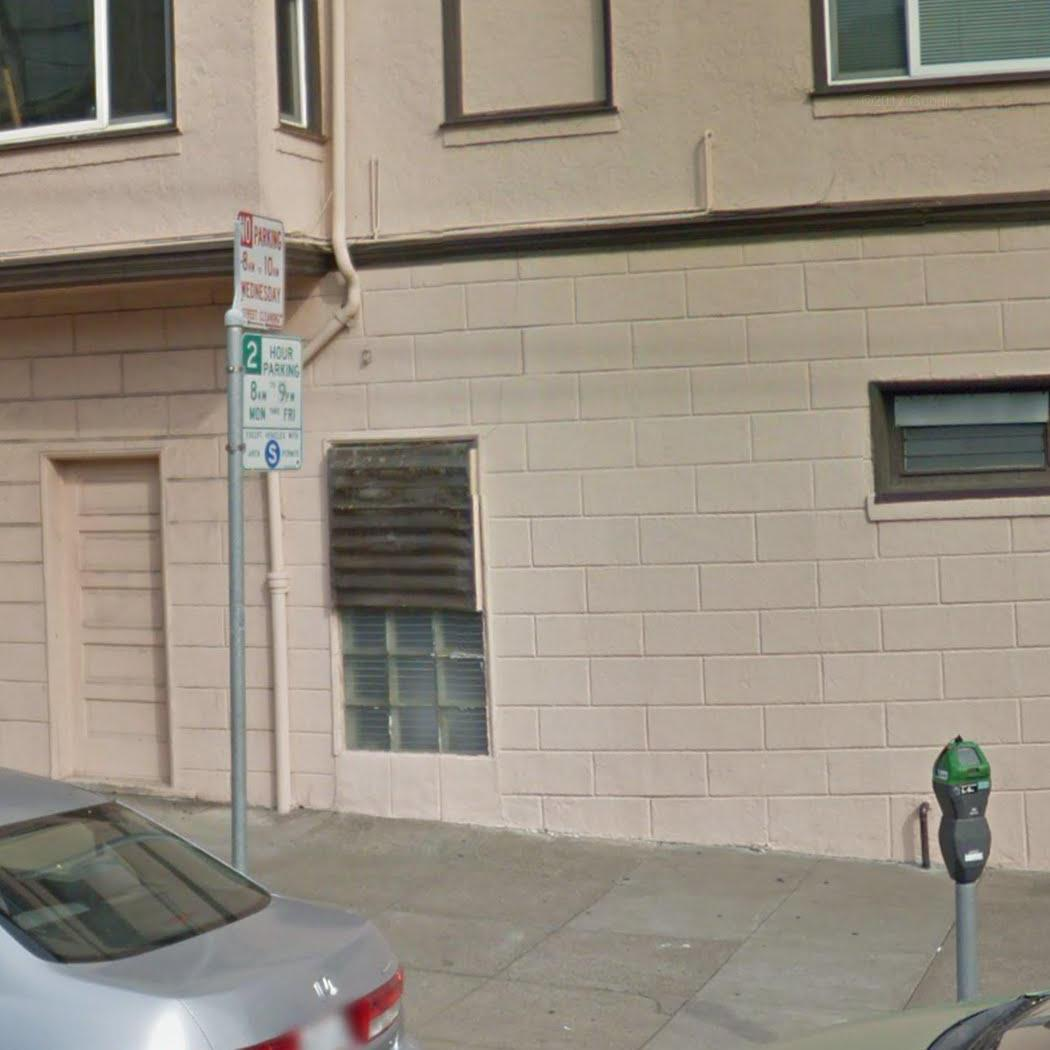2 Hour Parking: (236, 330, 307, 471)
No Parking: (232, 208, 289, 331)
